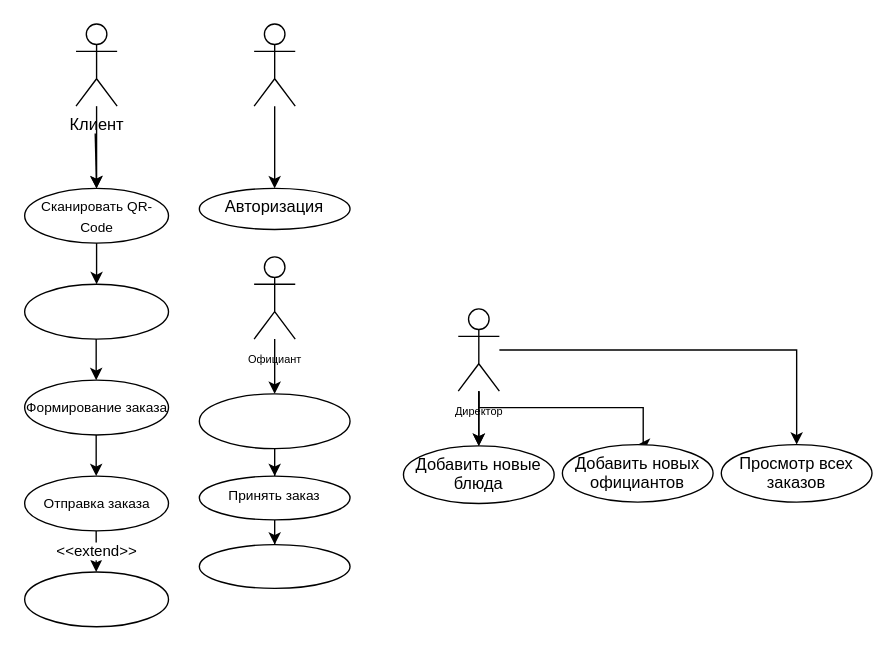
Some shapes in this 896 by 651 pixel diagram are drawn without their labels. The shapes that lost their labels are listed below. From the top down, each one's centre as x and y in pixels, then its label:
(x=274, y=64): Незарегистрированный пользователь
(x=96, y=311): Просмотр меню
(x=274, y=421): Просмотр списка заказов
(x=274, y=565): Отдать заказ
(x=96, y=599): Дополнительные пожелания
